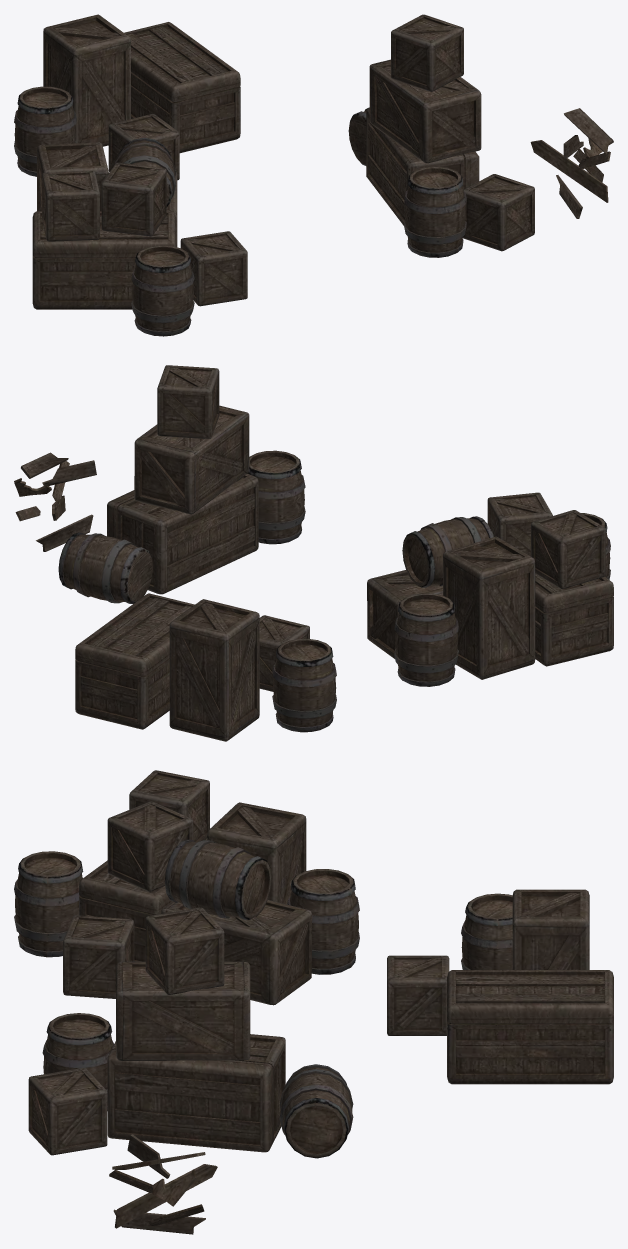
File: p_crates_bumstrum.glb
3 views of the same model, one above another, from view 1: azimuth 30°, elevation 25°; view 2: azimuth 150°, elevation 25°; view 3: azimuth 270°, elevation 25° (orthographic). The views are drawn at different scales.
Visible parts, largest first — view 1: cratemerged1, cratesmerged2, cratewide, cratetall, barrel, cratesmall, piece3, piece2_1, piece2; view 2: cratemerged1, cratesmerged2, cratetall, cratewide, barrel, cratesmall, piece2, piece4, piece2_1; view 3: cratesmerged2, cratemerged1, cratewide, cratetall, cratesmall, barrel, piece3, piece2, piece5, piece4.
Part boxes in pixels (x1,y1,x2,y2): cratemerged1: (32,137,247,336); cratesmerged2: (348,14,534,257); cratewide: (124,22,240,153); cratetall: (43,14,130,146); barrel: (14,86,76,176); cratesmall: (108,114,179,180); piece3: (530,140,608,202); piece2_1: (564,108,613,154); piece2: (556,175,582,218); cratemerged1: (367,492,613,686); cratesmerged2: (58,365,305,603); cratetall: (169,599,259,741); cratewide: (75,593,194,729); barrel: (272,638,336,732); cratesmall: (259,615,309,691); piece2: (36,514,93,551); piece4: (42,460,96,486); piece2_1: (21,452,68,478); cratesmerged2: (28,907,353,1158); cratemerged1: (14,770,359,1005); cratewide: (447,970,613,1084); cratetall: (512,889,589,969); cratesmall: (387,955,449,1035); barrel: (461,893,512,969); piece3: (115,1164,217,1228); piece2: (113,1209,205,1234); piece5: (152,1169,196,1206); piece4: (127,1134,170,1178).
Bounding box in the file's own units: 1135 × 379 × 883.
Materials: 1 (1 with a texture image).
